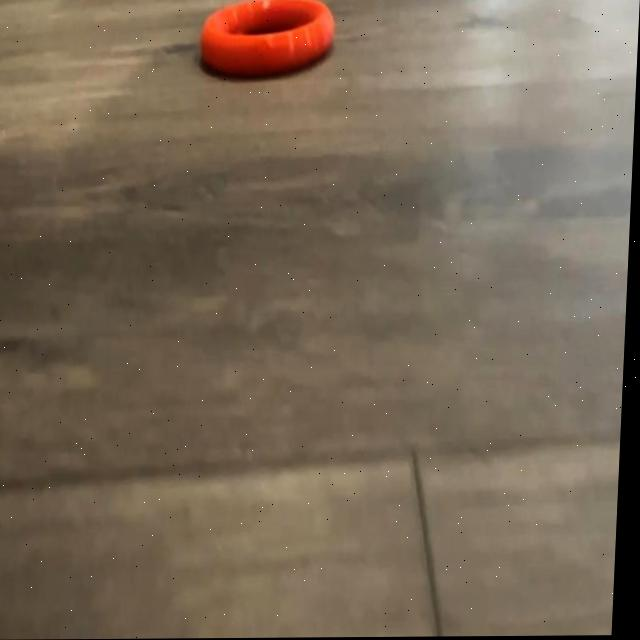note: (199, 0, 336, 76)
